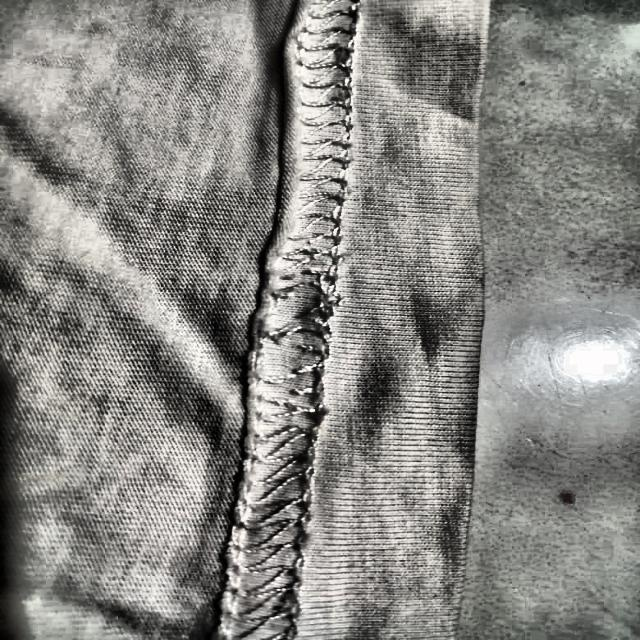Stitch: (195, 203, 389, 488)
